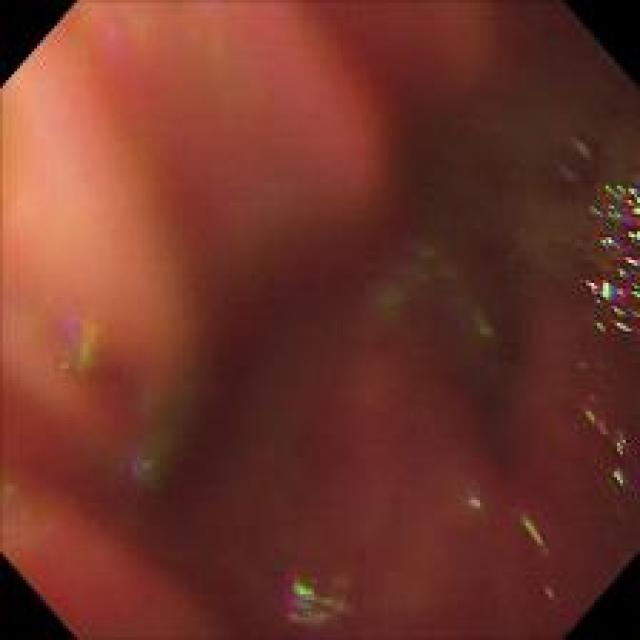blur: (2, 4, 636, 635)
color misalignment: (6, 10, 634, 630), (79, 0, 256, 111), (371, 234, 492, 361), (579, 170, 631, 342), (105, 418, 211, 502), (9, 461, 69, 581), (54, 285, 121, 388), (575, 390, 634, 500), (264, 562, 361, 628), (516, 490, 562, 604), (458, 469, 489, 528)
